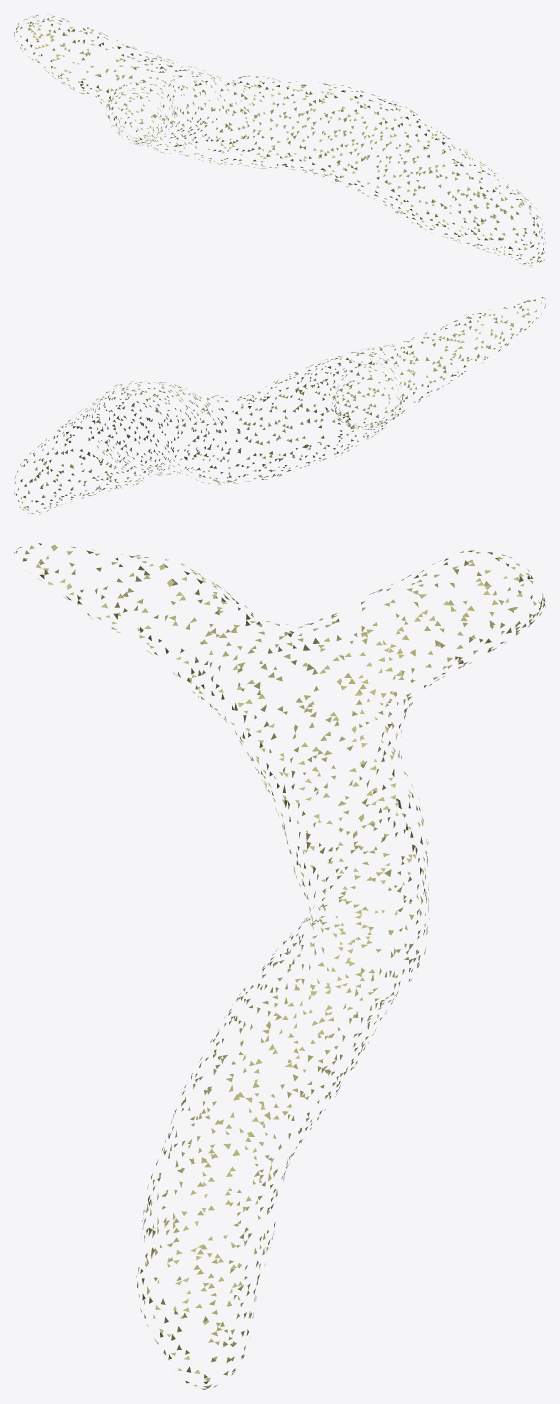
File: morph_009.glb
3 views of the same model, one above another, from view 1: azimuth 30°, elevation 25°; view 2: azimuth 150°, elevation 25°; view 3: azimuth 270°, elevation 25° (orthographic). The views are drawn at different scales.
Size of the model in its own units: 93.68 by 56.19 by 55.24.
